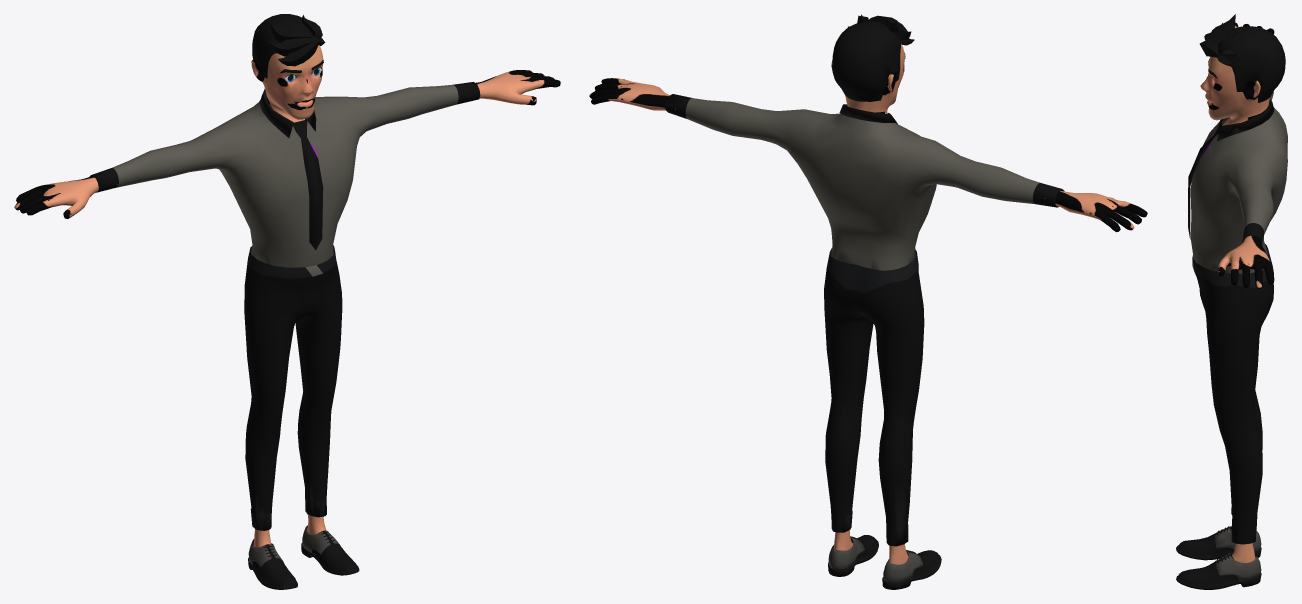
3 renders of one model, left to right at view 1: azimuth 30°, elevation 25°; view 2: azimuth 150°, elevation 25°; view 3: azimuth 270°, elevation 25°, orthographic. The views are drawn at different scales.
Visible parts, largest first — view 1: D_1, D_3, Body, Shoes, Hair, D_2; view 2: D_1, D_3, Body, Hair, Shoes; view 3: D_3, D_1, Body, Hair, Shoes, D_2.
Boxes of the visible parts, box(x1,y1,x2,y2) form: D_1: box(89, 82, 480, 267); D_3: box(244, 245, 342, 530); Body: box(14, 45, 560, 547); Shoes: box(248, 525, 359, 589); Hair: box(252, 14, 325, 78); D_2: box(293, 120, 323, 250); D_1: box(665, 94, 1064, 270); D_3: box(824, 248, 924, 546); Body: box(589, 43, 1147, 564); Hair: box(832, 14, 914, 101); Shoes: box(828, 535, 941, 589); D_3: box(1192, 244, 1273, 544); D_1: box(1190, 92, 1287, 273); Body: box(1200, 22, 1274, 562); Hair: box(1199, 14, 1285, 102); Shoes: box(1176, 526, 1261, 589); D_2: box(1188, 121, 1222, 239).
Size of the model in its own units: 199 by 194 by 36.27.
